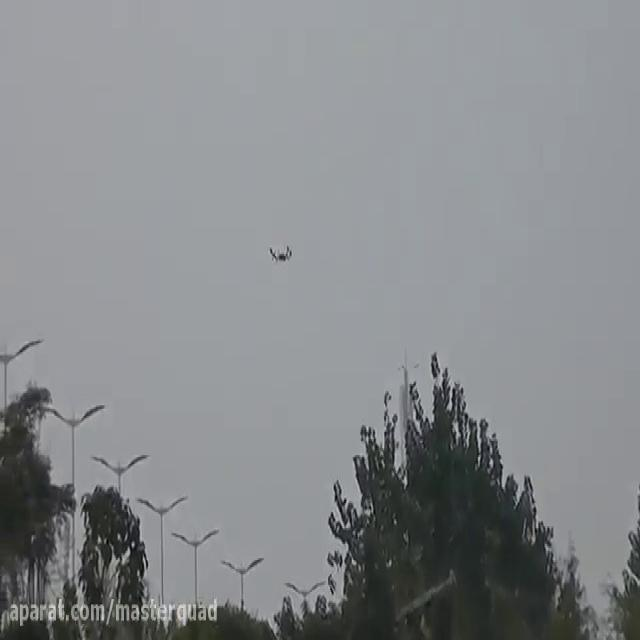drone: (265, 235, 294, 270)
